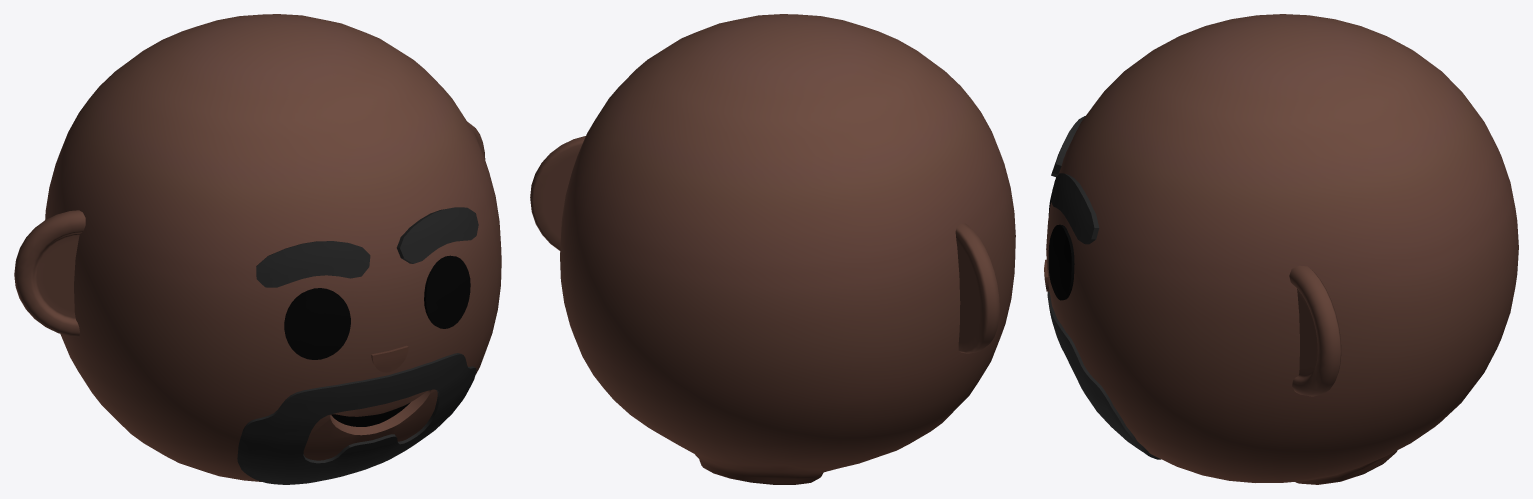
Rendered from man_beard.glb.
3 views of the same model, side by side, from view 1: azimuth 30°, elevation 25°; view 2: azimuth 150°, elevation 25°; view 3: azimuth 270°, elevation 25° (orthographic).
Parts seen in each view (by area): view 1: Roundcube.430, Circle.004, Circle.003, Circle.001, ears.009, Circle.002; view 2: Roundcube.430, ears.009; view 3: Roundcube.430, ears.009, Circle.003, Circle.004, Circle.001.
Part boxes in pixels (x1,y1,x2,y2): Roundcube.430: (45,14,501,481); Circle.004: (237,353,476,484); Circle.003: (256,207,478,287); Circle.001: (284,255,470,359); ears.009: (14,121,485,337); Circle.002: (371,345,408,372); Roundcube.430: (560,14,1015,484); ears.009: (530,136,999,353); Roundcube.430: (1046,14,1518,484); ears.009: (1289,265,1341,396); Circle.003: (1051,116,1099,244); Circle.004: (1047,291,1160,459); Circle.001: (1048,177,1074,300).
Bounding box in the file's own units: 1.76 × 1.52 × 1.52.
2 materials, 2 textured.
